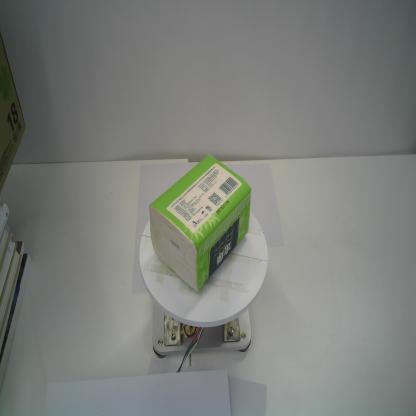Tissue: (148, 152, 252, 293)
